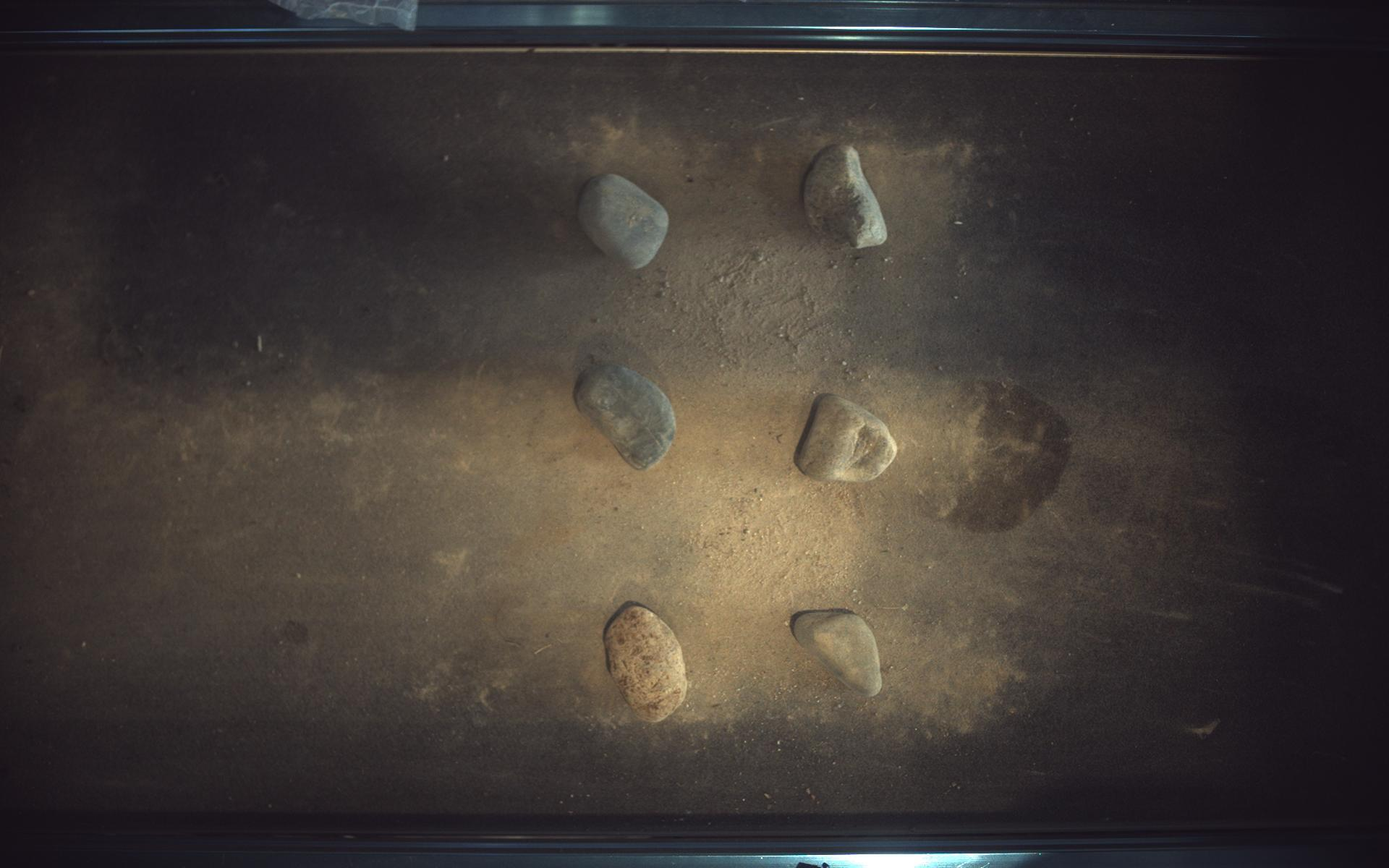stone: (574, 364, 676, 470), (604, 602, 689, 724), (795, 395, 899, 482), (804, 144, 889, 247), (579, 173, 670, 268), (791, 610, 884, 699)
